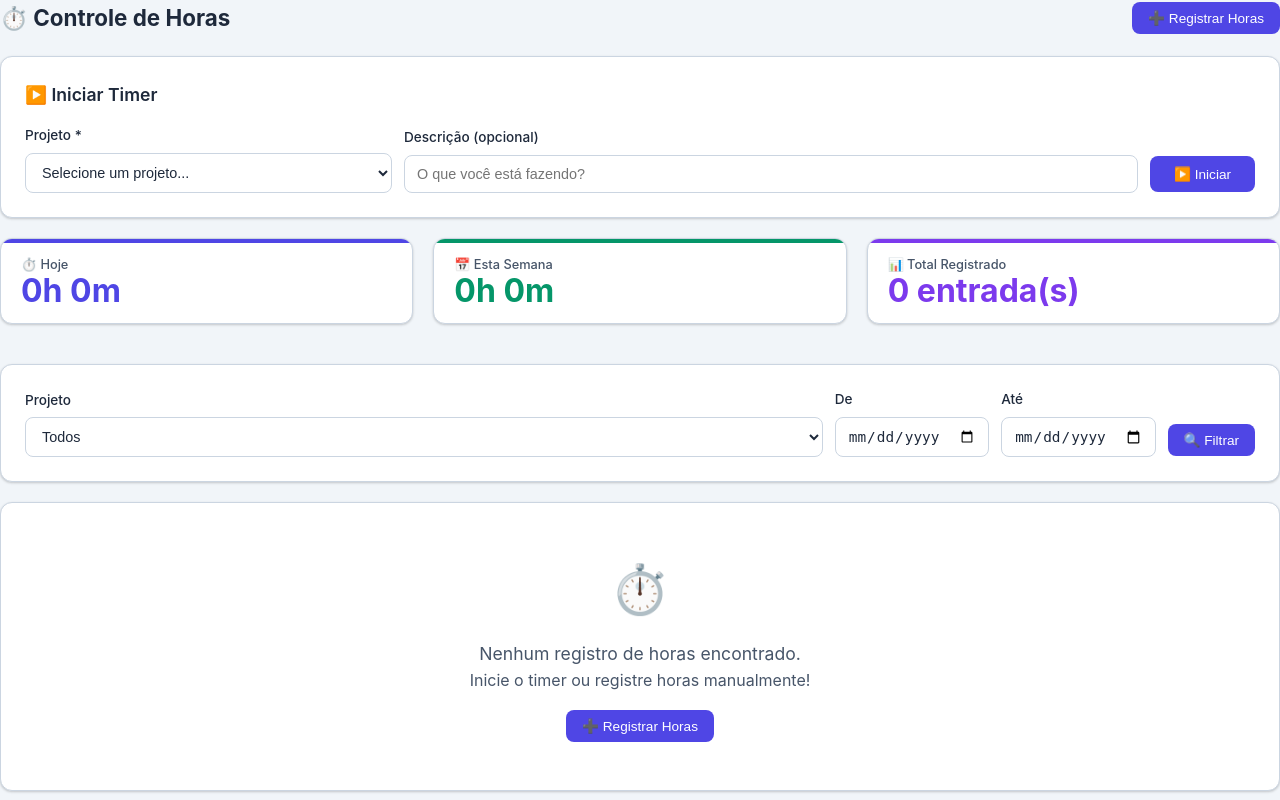
Test: TimeTracking › opens manual entry modal
Button appears in header AND empty state
What coordinates should you click on to do the following:
click the button "➕ Registrar Horas" in the row of "⏱️ Controle de Horas"
I would click on:
 (1206, 18)
Its box is top-left (1132, 2), bottom-right (1279, 34).
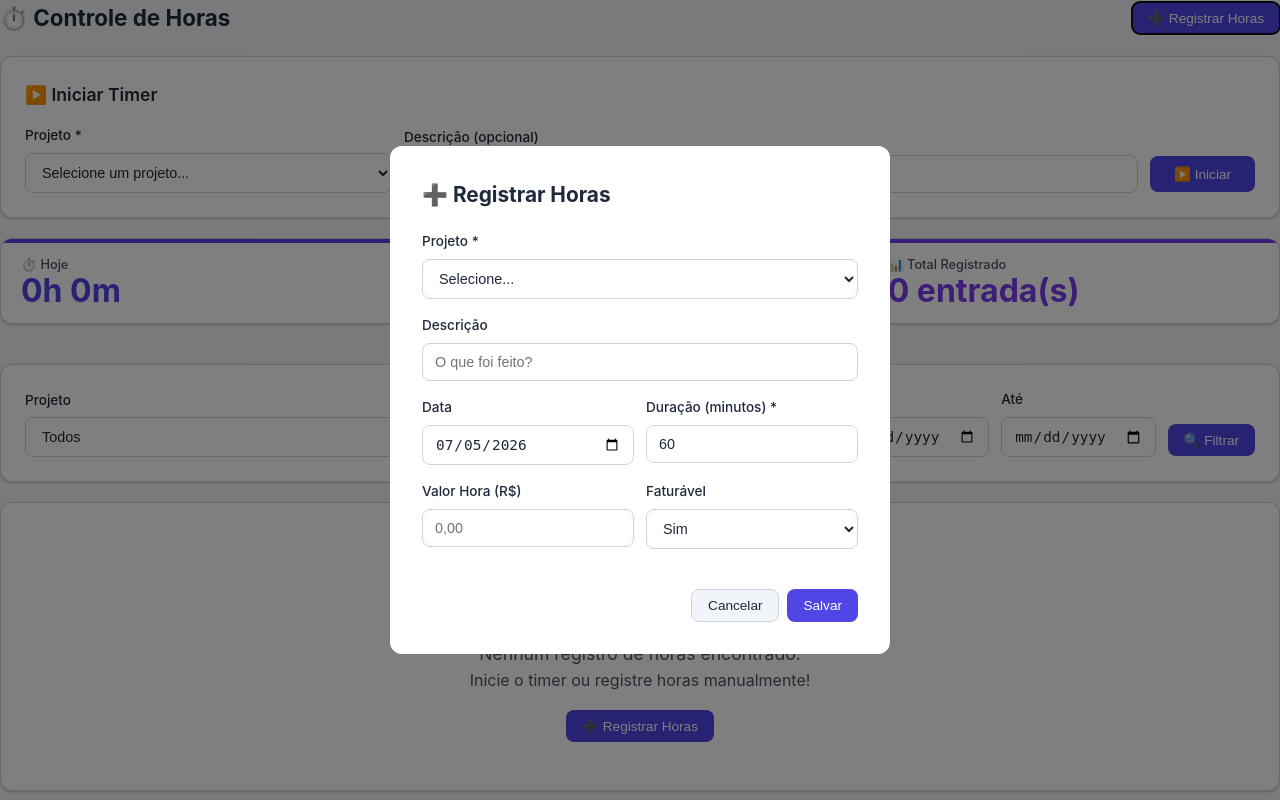
Expected: the button "Salvar" is shown, top-left (788, 589), bottom-right (858, 622)
Expected: the button "Cancelar" is shown, top-left (691, 589), bottom-right (780, 622)
